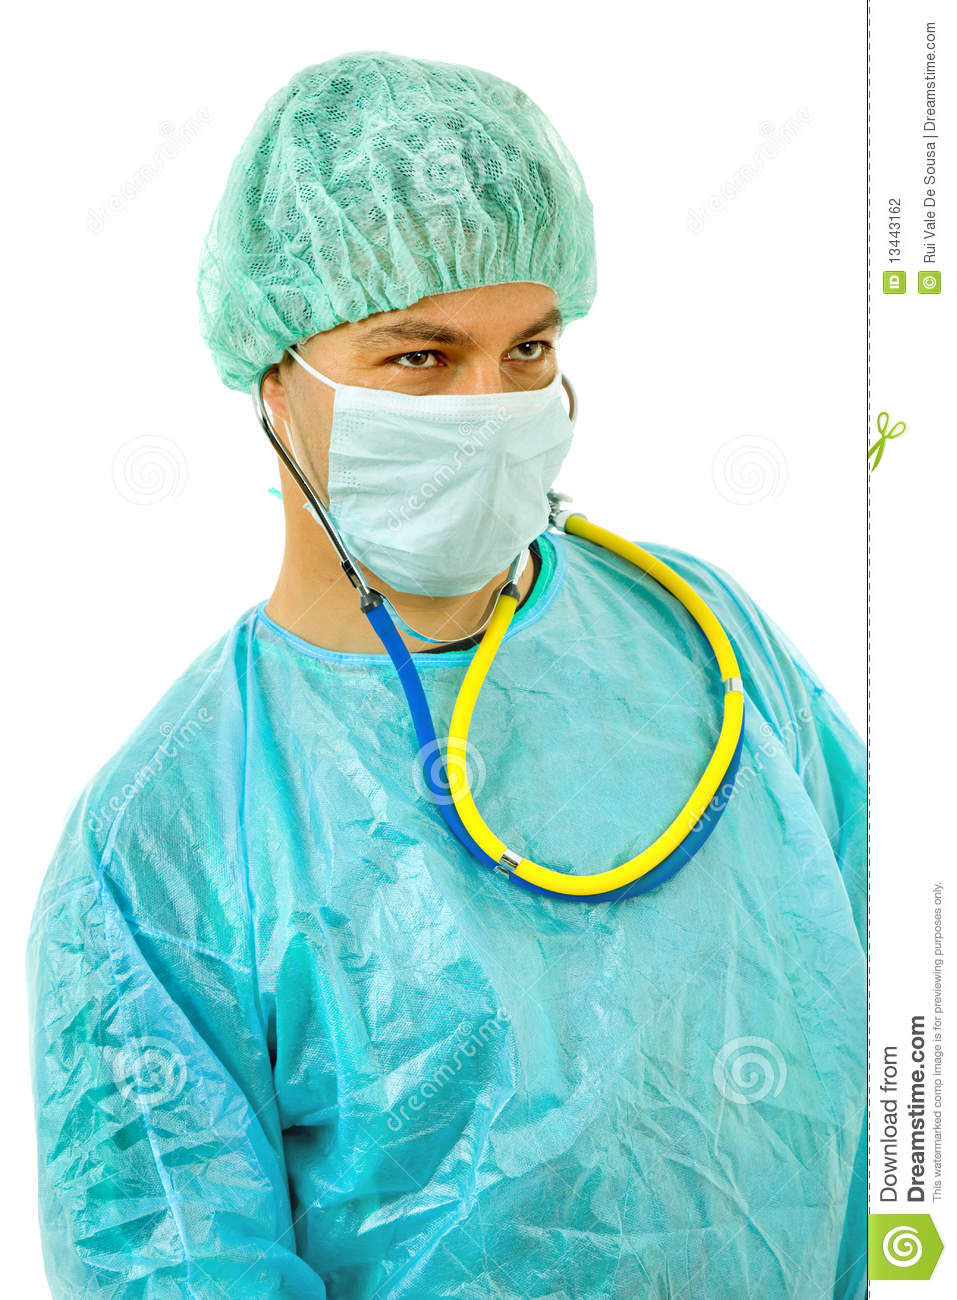mask: (320, 381, 604, 603)
